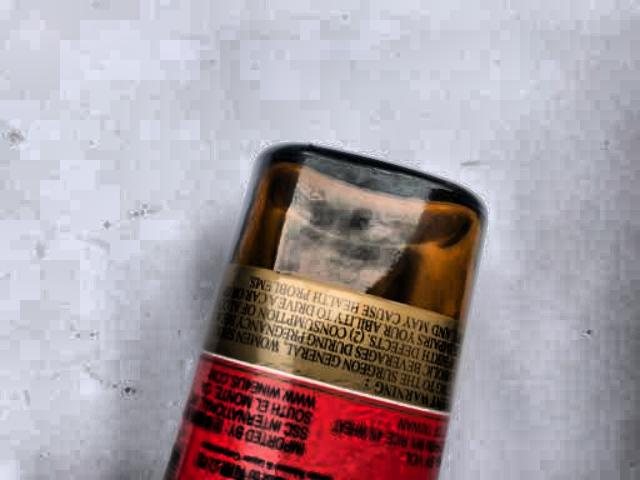Almennt: (123, 111, 496, 480)
